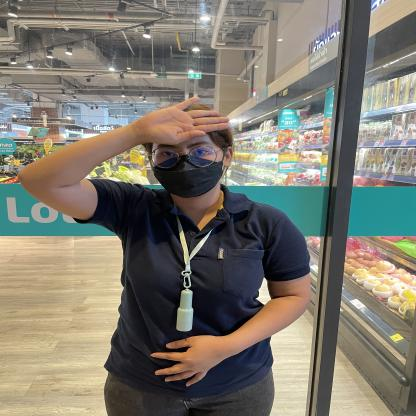Sick: (114, 83, 241, 145)
